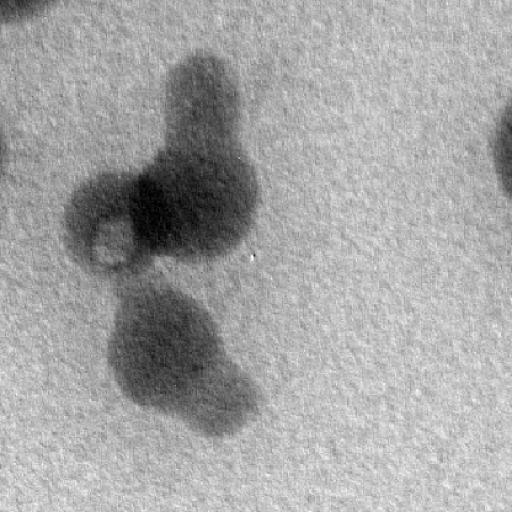Nanoparticles: (108, 292, 224, 412), (148, 153, 256, 252), (62, 173, 154, 273), (176, 362, 264, 442), (183, 164, 258, 218), (166, 52, 236, 106), (163, 89, 243, 135), (158, 134, 246, 160), (493, 103, 512, 195), (1, 0, 51, 25)
